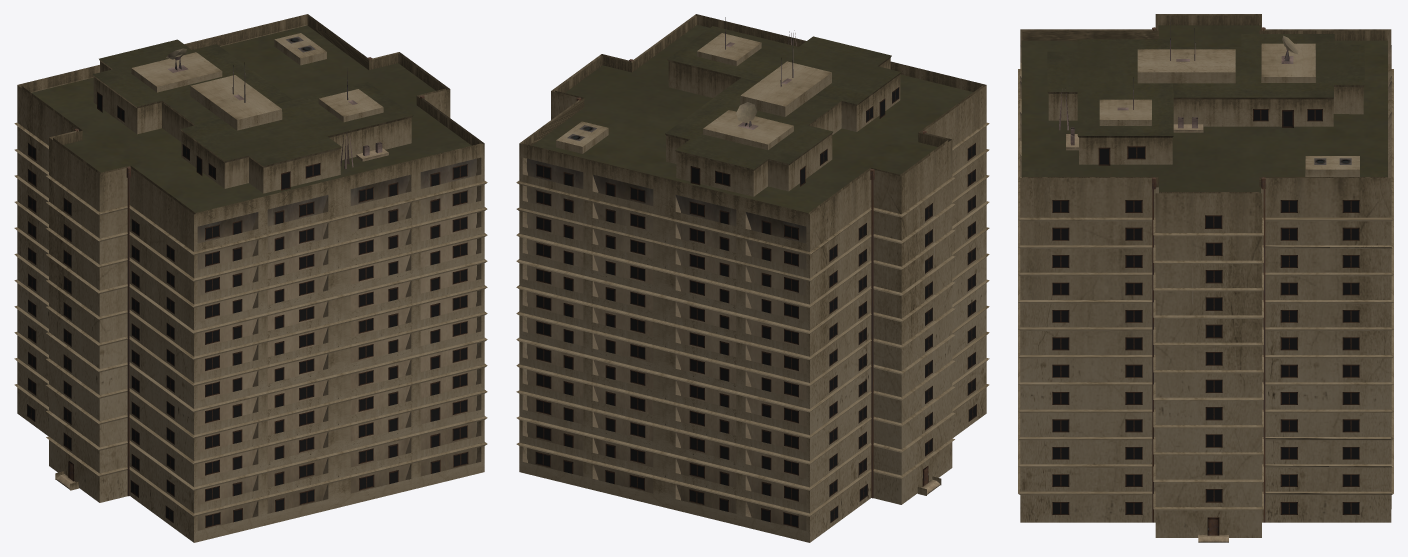
File: ORB_1_S12_Detail_2.fbx
3 renders of one model, left to right at view 1: azimuth 30°, elevation 25°; view 2: azimuth 150°, elevation 25°; view 3: azimuth 270°, elevation 25°, orthographic. The views are drawn at different scales.
Parts seen in each view (by area): view 1: ORB_1_S12_Detail_2; view 2: ORB_1_S12_Detail_2; view 3: ORB_1_S12_Detail_2.
Part boxes in pixels (x1,y1,x2,y2): ORB_1_S12_Detail_2: [14, 14, 487, 542]; ORB_1_S12_Detail_2: [516, 14, 989, 542]; ORB_1_S12_Detail_2: [1018, 14, 1393, 542].
Size of the model in its own units: 4154 by 4297 by 3491.
